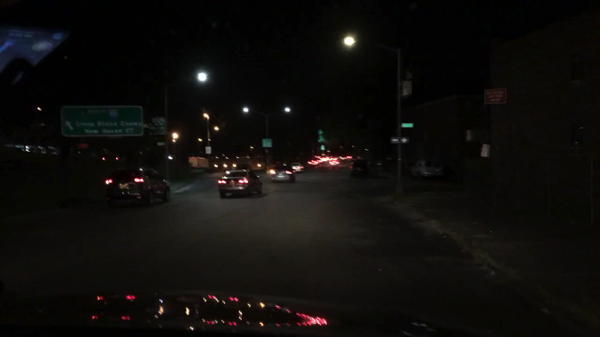car: (104, 166, 171, 207), (217, 169, 262, 199), (408, 157, 444, 179), (271, 162, 296, 185), (348, 160, 372, 181), (100, 153, 128, 165), (289, 162, 304, 174), (307, 158, 319, 169), (235, 163, 251, 170), (312, 154, 323, 164), (340, 152, 352, 161), (321, 154, 330, 162), (330, 154, 337, 161)
traffic sign: (59, 105, 142, 135), (482, 87, 505, 103), (149, 116, 165, 135), (261, 137, 272, 149), (317, 130, 327, 143), (390, 136, 408, 143), (154, 140, 165, 147), (401, 122, 413, 128), (204, 145, 211, 155), (319, 144, 326, 151)
truck: (187, 155, 211, 170)
